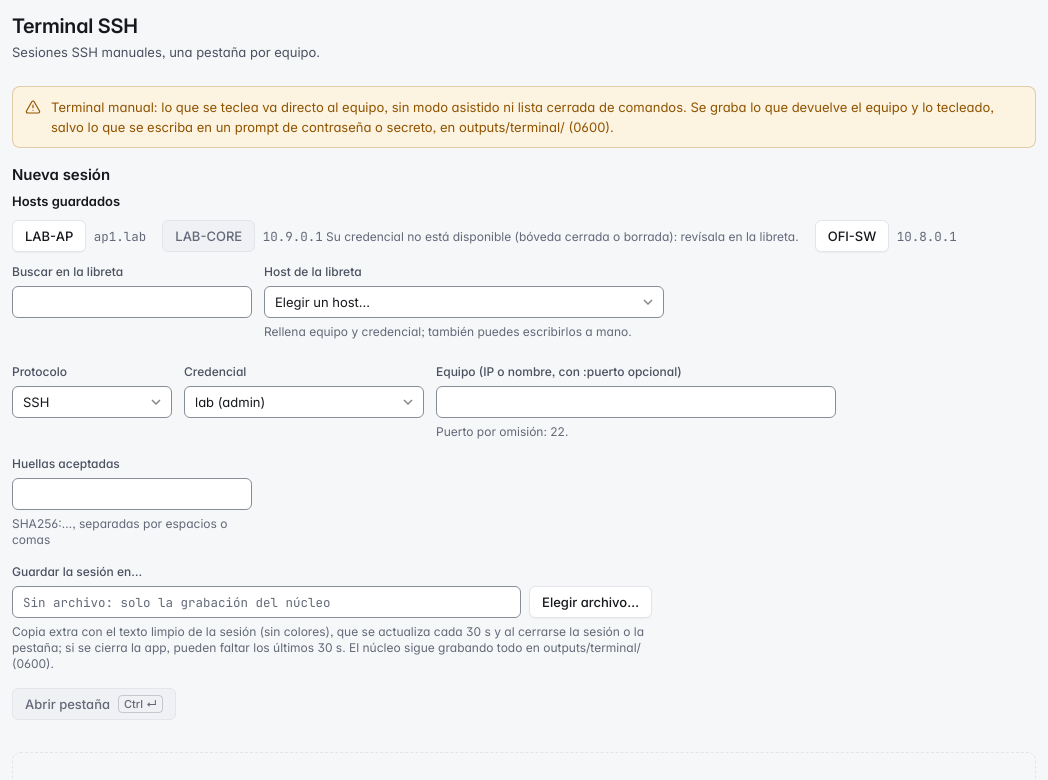
Test case: una pregunta del equipo abre un panel de texto plano, con foco en el primer campo y password si no hay eco
Select "Escribir usuario y contraseña al conectar" in the dropdown labelled "Credencial" at (304, 402), box [184,386,424,418]
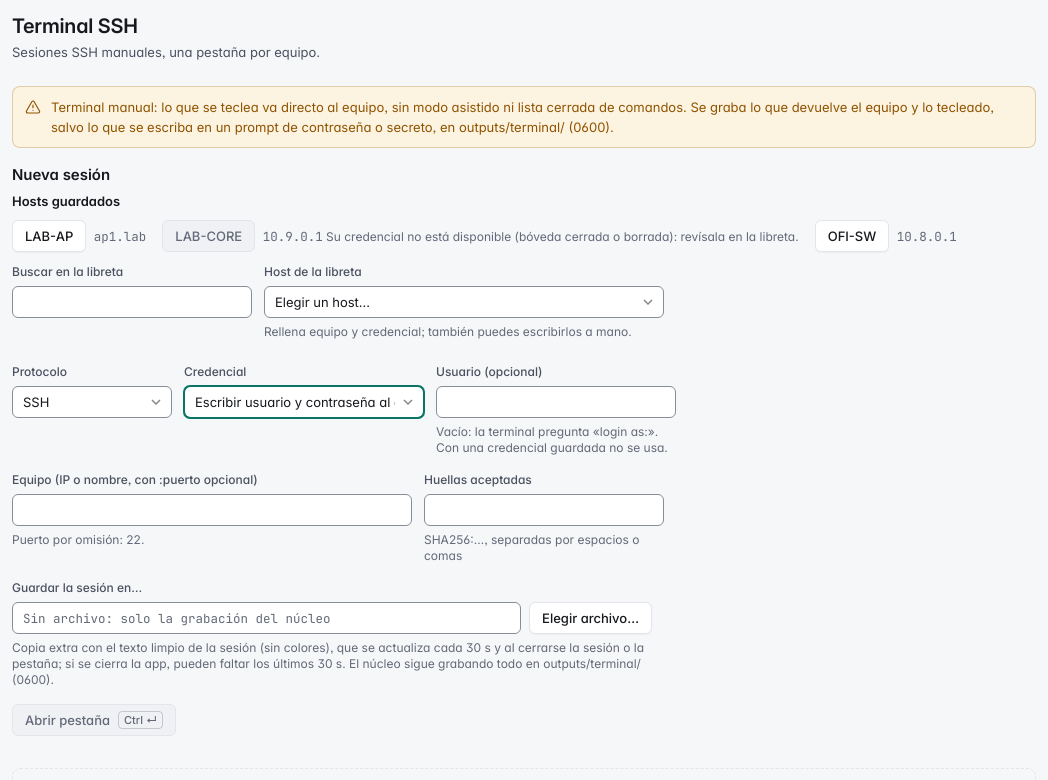
Type "192.0.2.1" into the field labelled "Equipo (IP o nombre, con :puerto opcional)".
click(212, 510); type("192.0.2.1")  # box [12,494,412,526]
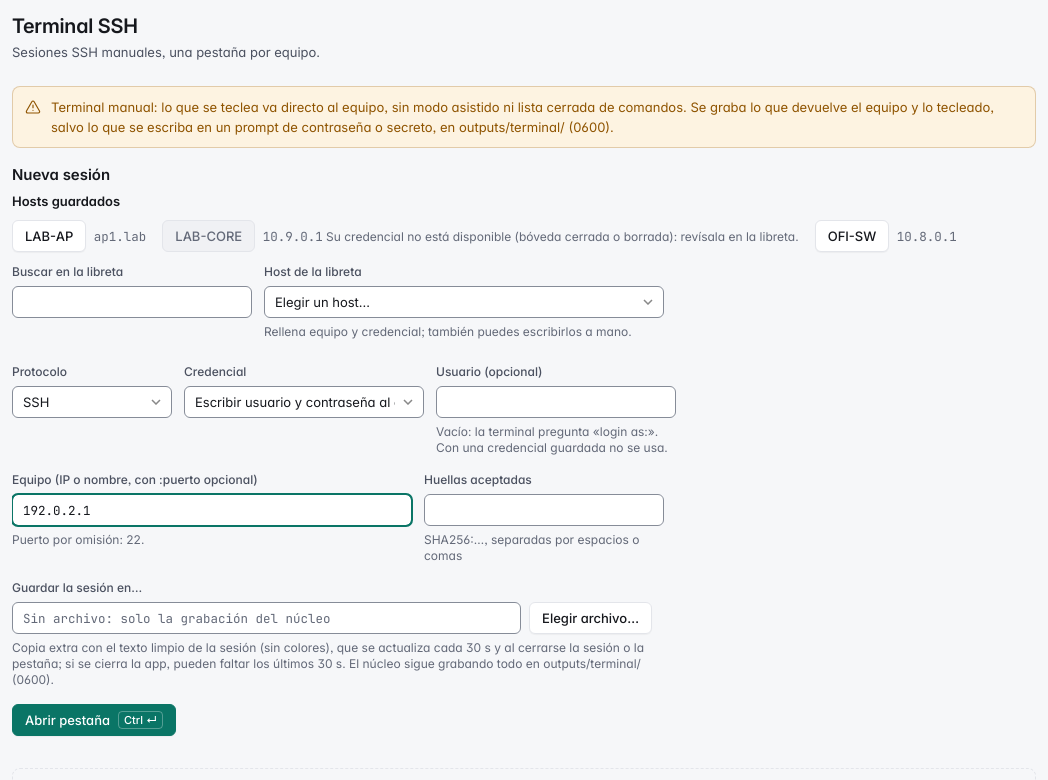
Click the button "Abrir pestaña Ctrl ↵".
click(94, 720)  # box [12,704,176,736]
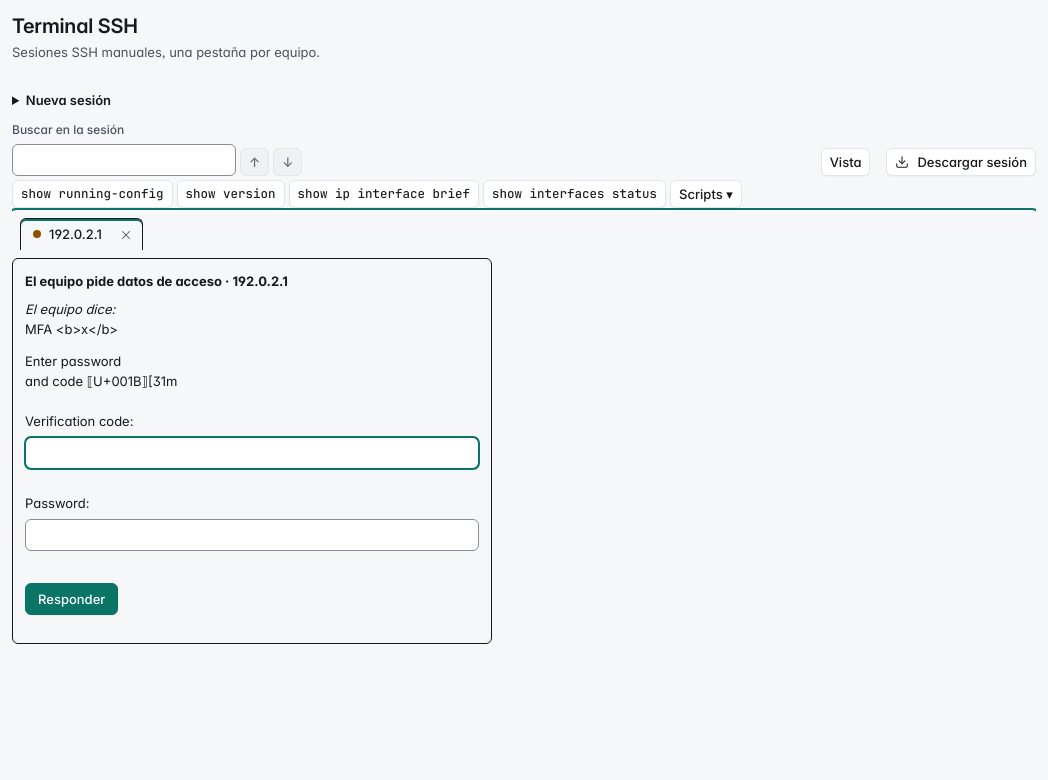
Expected: the form shows "MFA <b>x</b>", [25,321,118,337]
Expected: the form shows "⟦U+001B⟧[31m", [25,353,178,389]
